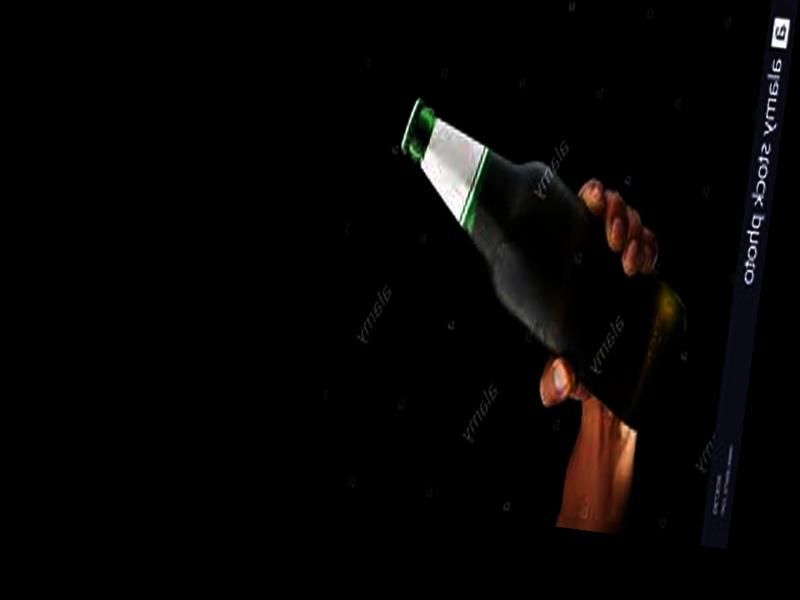Beer: (366, 92, 715, 434)
